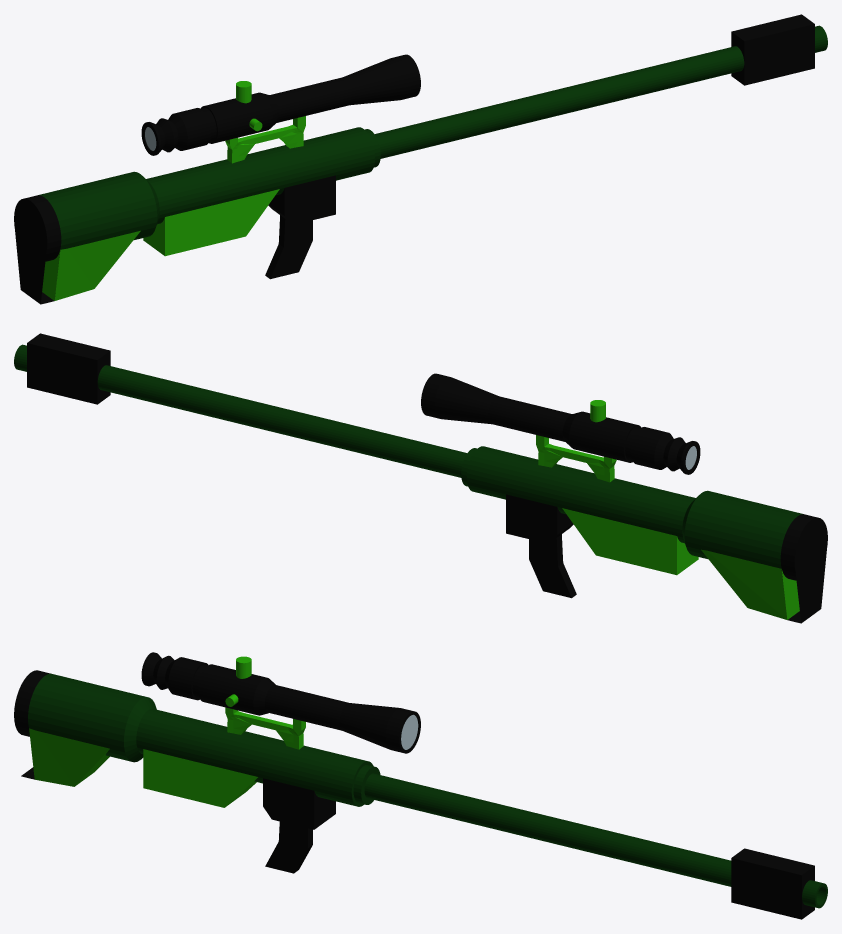
Rendered from sniper_rifle.obj.
3 renders of one model, top to bottom at view 1: azimuth 30°, elevation 25°; view 2: azimuth 150°, elevation 25°; view 3: azimuth 330°, elevation 25°, orthographic.
Parts seen in each view (by area): view 1: Cylinder, Cylinder.002, Cube_Cube.001, Cube.001_Cube.002, Cube.002_Cube.003, Cube.003_Cube.004, Cylinder.001, Cube.005_Cube.006, Cube.004_Cube.005; view 2: Cylinder, Cylinder.002, Cube_Cube.001, Cube.001_Cube.002, Cube.002_Cube.003, Cube.003_Cube.004, Cylinder.001, Cube.005_Cube.006, Cube.004_Cube.005; view 3: Cylinder, Cylinder.002, Cube_Cube.001, Cube.002_Cube.003, Cube.001_Cube.002, Cube.003_Cube.004, Cube.005_Cube.006, Cylinder.001.
Part boxes in pixels (x1,y1,x2,y2): Cylinder: [38, 25, 827, 249]; Cylinder.002: [141, 54, 420, 155]; Cube_Cube.001: [731, 14, 814, 85]; Cube.001_Cube.002: [143, 189, 279, 256]; Cube.002_Cube.003: [265, 175, 335, 279]; Cube.003_Cube.004: [42, 230, 140, 300]; Cylinder.001: [14, 195, 61, 263]; Cube.005_Cube.006: [225, 116, 305, 163]; Cube.004_Cube.005: [15, 231, 60, 304]; Cylinder: [14, 344, 803, 568]; Cylinder.002: [421, 373, 700, 474]; Cube_Cube.001: [27, 333, 110, 404]; Cube.001_Cube.002: [562, 508, 698, 575]; Cube.002_Cube.003: [506, 494, 576, 598]; Cube.003_Cube.004: [701, 549, 799, 619]; Cylinder.001: [780, 514, 827, 582]; Cube.005_Cube.006: [536, 435, 616, 482]; Cube.004_Cube.005: [781, 539, 827, 623]; Cylinder: [28, 673, 827, 908]; Cylinder.002: [141, 652, 420, 753]; Cube_Cube.001: [731, 848, 814, 919]; Cube.002_Cube.003: [263, 778, 335, 873]; Cube.001_Cube.002: [143, 749, 257, 807]; Cube.003_Cube.004: [29, 728, 109, 786]; Cube.005_Cube.006: [225, 707, 305, 749]; Cylinder.001: [14, 670, 50, 736].
Size of the model in its own units: 12.63 by 3.04 by 0.9251.
